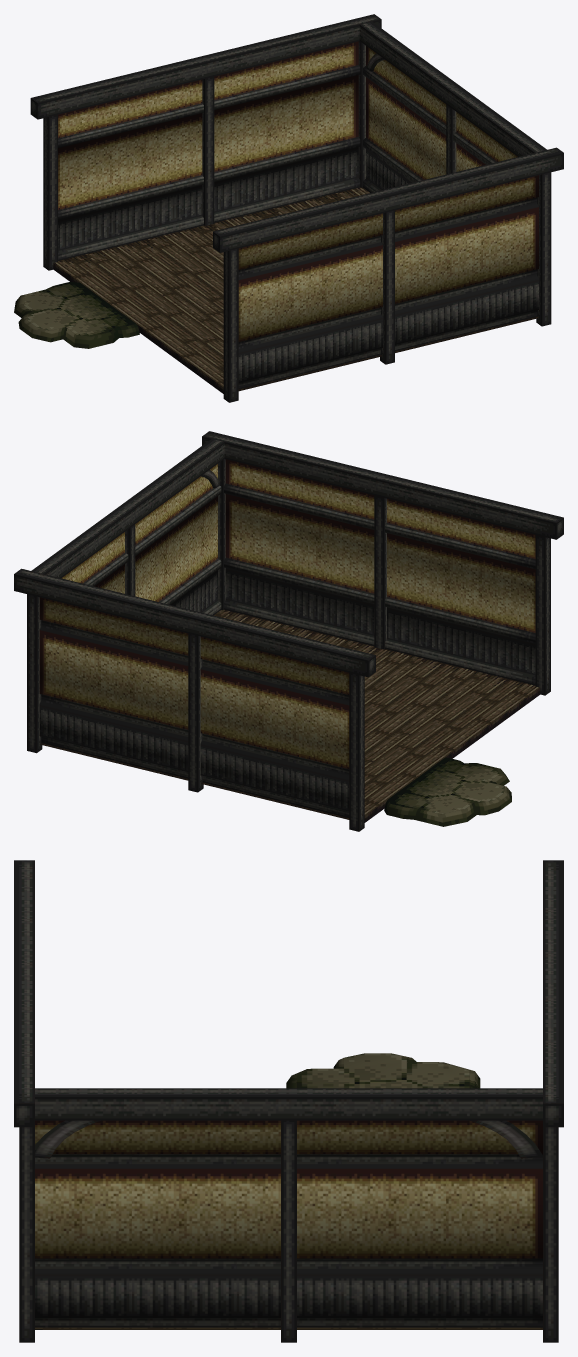
File: EnvBdgMD_Forest_A_Indoor_House_D.FBX
3 renders of one model, top to bottom at view 1: azimuth 30°, elevation 25°; view 2: azimuth 150°, elevation 25°; view 3: azimuth 270°, elevation 25°, orthographic. The views are drawn at different scales.
Parts seen in each view (by area): view 1: EnvBdgMD_Forest_A_Indoor_House_D; view 2: EnvBdgMD_Forest_A_Indoor_House_D; view 3: EnvBdgMD_Forest_A_Indoor_House_D.
Boxes of the visible parts, x1,y1,x2,y2 form: EnvBdgMD_Forest_A_Indoor_House_D: [14, 14, 563, 402]; EnvBdgMD_Forest_A_Indoor_House_D: [14, 431, 563, 831]; EnvBdgMD_Forest_A_Indoor_House_D: [14, 860, 563, 1342].
Size of the model in its own units: 1320 by 525 by 1050.
